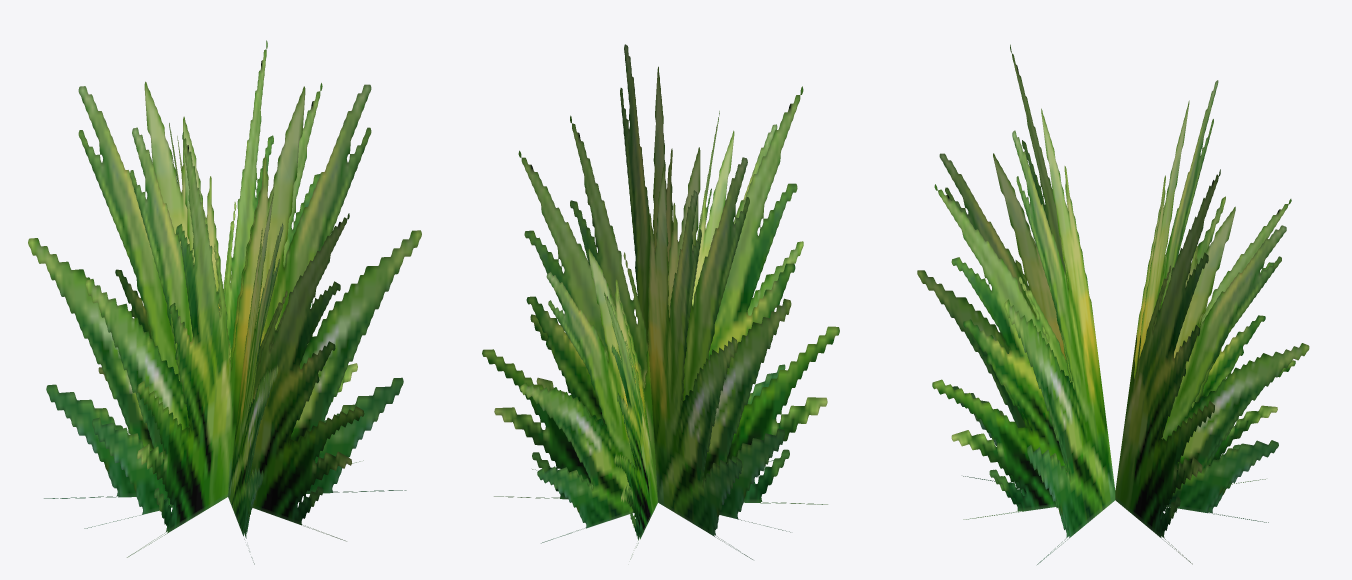
File: plants1.obj
3 renders of one model, left to right at view 1: azimuth 30°, elevation 25°; view 2: azimuth 150°, elevation 25°; view 3: azimuth 270°, elevation 25°, orthographic. The views are drawn at different scales.
Visible parts, largest first — view 1: obj4; view 2: obj4; view 3: obj4.
Part boxes in pixels (x1,y1,x2,y2): obj4: [28, 40, 421, 564]; obj4: [482, 44, 839, 559]; obj4: [917, 44, 1309, 564].
Size of the model in its own units: 5.24 by 7.69 by 7.52.
Materials: 1 (1 with a texture image).
